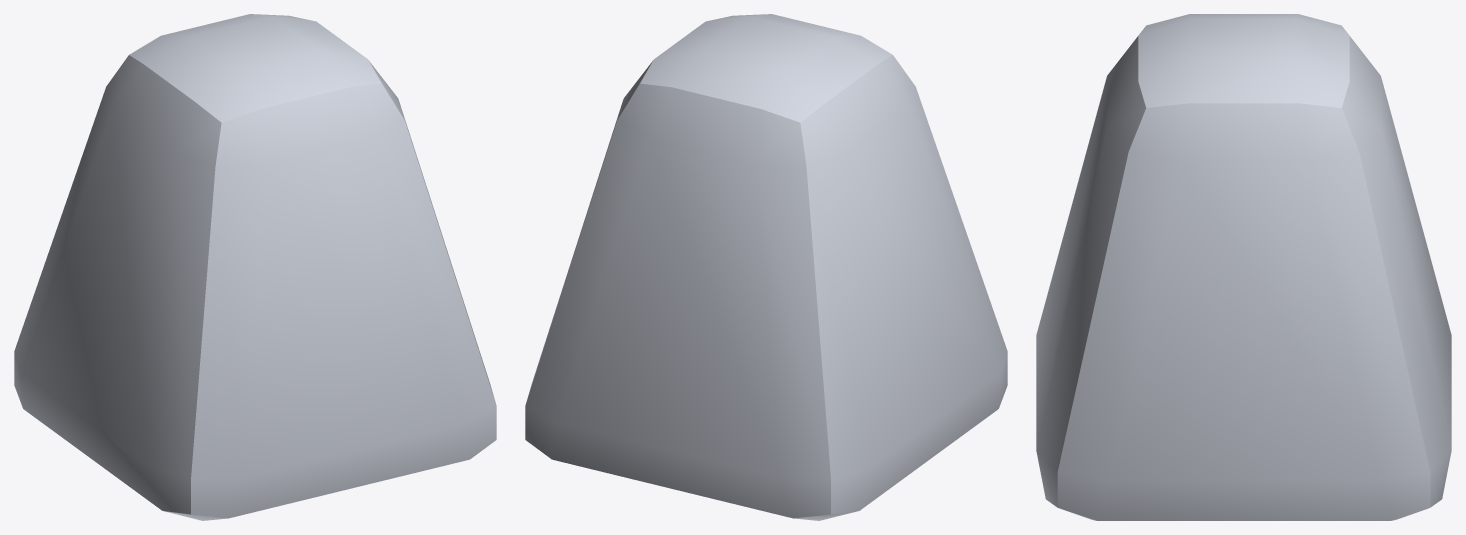
File: Rock_A.fbx
The picture shows the model from 3 angles, left to right: view 1: azimuth 30°, elevation 25°; view 2: azimuth 150°, elevation 25°; view 3: azimuth 270°, elevation 25°; orthographic projection. The views are drawn at different scales.
Parts seen in each view (by area): view 1: Rock_A; view 2: Rock_A; view 3: Rock_A.
Boxes of the visible parts, left/top/right/bottom form: Rock_A: left=14, top=14, right=496, bottom=520; Rock_A: left=525, top=14, right=1007, bottom=520; Rock_A: left=1036, top=14, right=1451, bottom=520.
Bounding box in the file's own units: 111 × 122 × 111.
